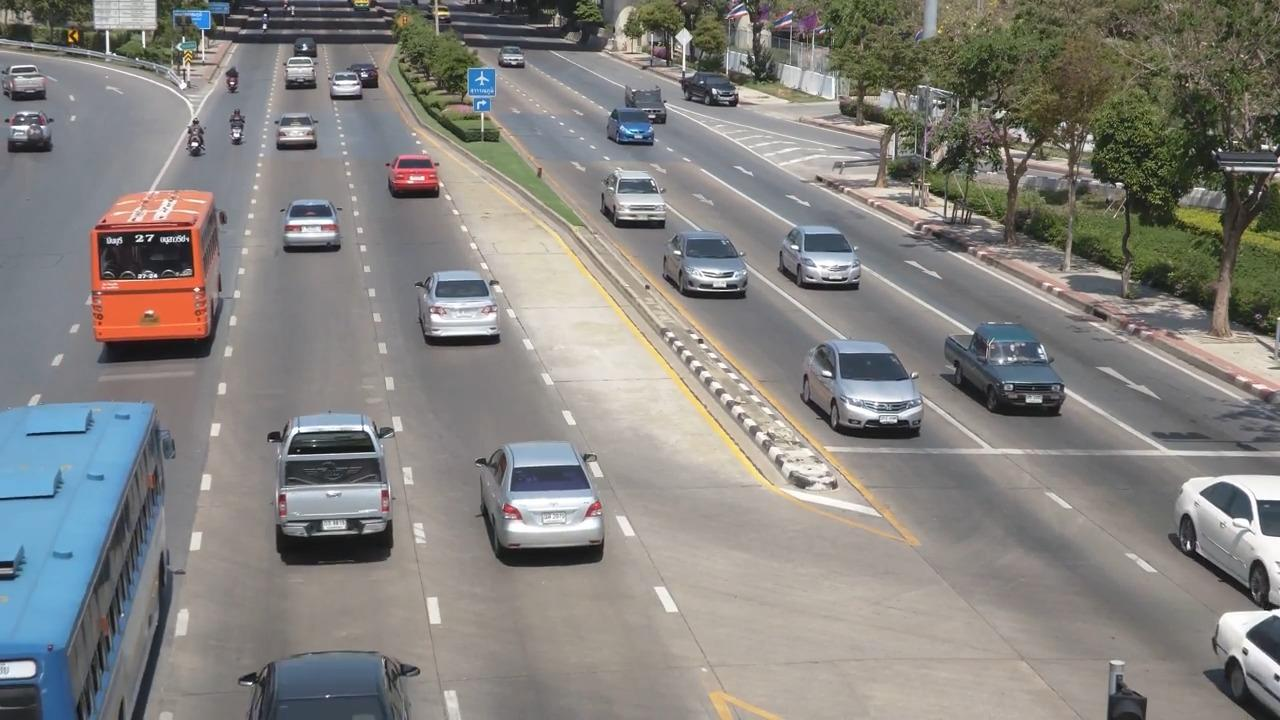CAR: (254, 405, 426, 577), (467, 430, 626, 577), (792, 326, 936, 453), (935, 310, 1073, 429), (1168, 455, 1280, 601), (765, 219, 883, 309), (415, 262, 509, 355), (658, 223, 752, 304), (271, 179, 352, 266), (598, 170, 678, 239), (8, 48, 75, 112), (595, 104, 675, 157), (265, 105, 328, 172), (386, 144, 446, 206), (0, 109, 56, 173), (677, 62, 742, 117), (615, 81, 674, 128), (277, 53, 332, 96), (345, 53, 396, 97), (321, 70, 368, 113), (285, 32, 330, 65)
HGV_BUS: (0, 394, 173, 720), (77, 182, 228, 372)
MOTOR: (162, 106, 208, 177), (208, 104, 262, 162), (216, 59, 249, 98)
